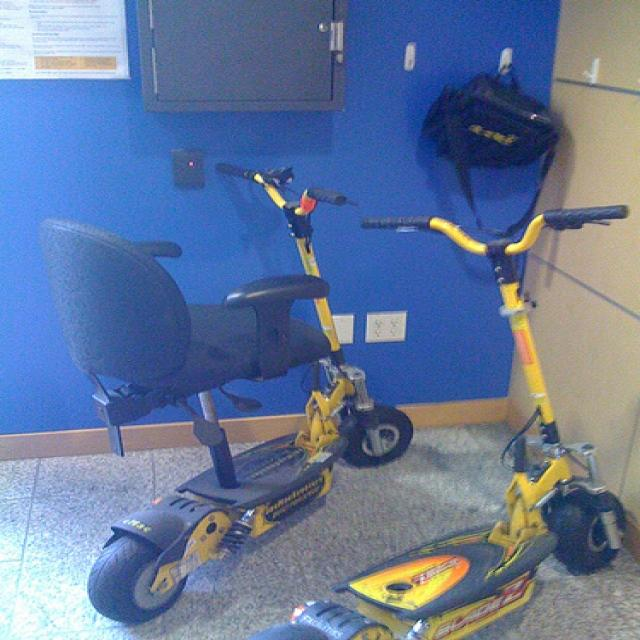motor: (39, 155, 631, 640)
